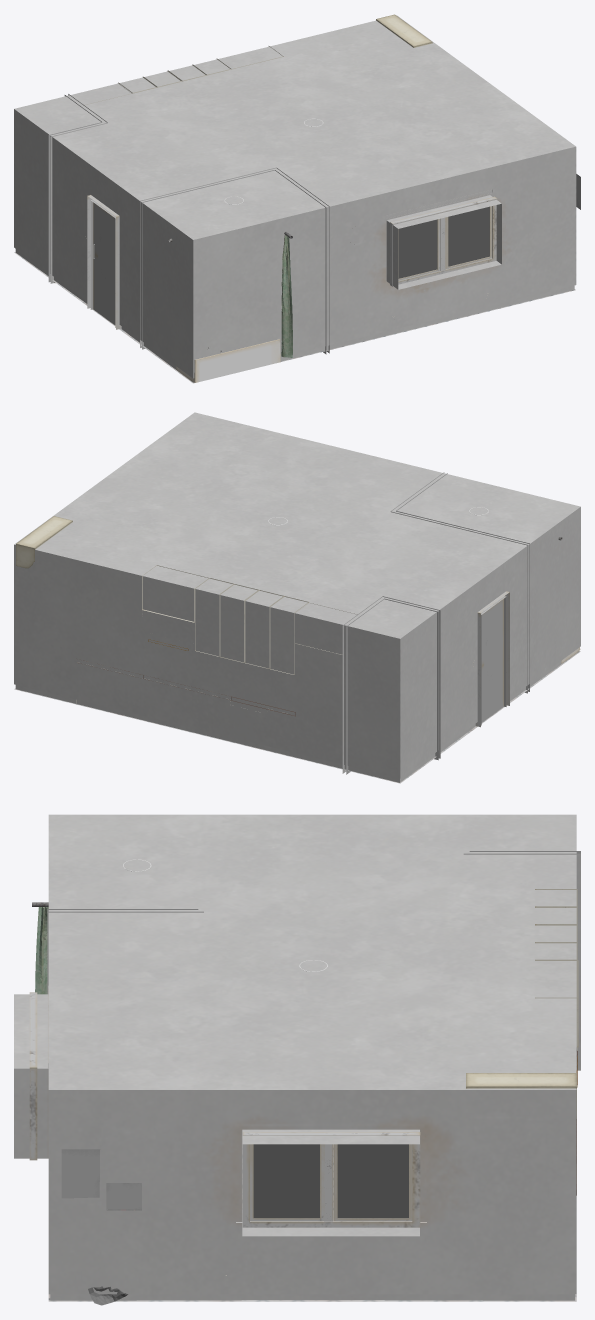
File: an_old_cheap_room_in_chinatown.obj
3 renders of one model, top to bottom at view 1: azimuth 30°, elevation 25°; view 2: azimuth 150°, elevation 25°; view 3: azimuth 270°, elevation 25°, orthographic. The views are drawn at different scales.
Visible parts, largest first — view 1: Base_M_MainParts_0, polySurface16_M_MainParts_0, DOOR_M_MainParts_0, bathtub_M_Bathroom_0, polySurface13_M_MainParts_0, Doorframe_M_MainParts_0, bathroom_wall_M_MainParts_0, curtain_M_Bathroom_0, wallCloset_M_MainParts_0, AC_M_LivingRoom_0; view 2: Base_M_MainParts_0, DOOR_M_MainParts_0, wallCloset_M_MainParts_0, Doorframe_M_MainParts_0, AC_M_LivingRoom_0, cabinets_M_Kitchen_0, bathroom_wall_M_MainParts_0; view 3: Base_M_MainParts_0, polySurface24_M_MainParts_0, polySurface23_M_MainParts_0, pCube33_M_Bedroom_0, AC_M_LivingRoom_0, polySurface13_M_MainParts_0, wallCloset_M_MainParts_0, curtain_M_Bathroom_0, pCube34_M_Bedroom_0, polySurface25_M_MainParts_0, polySurface32_M_MainParts_0, cabinets_M_Kitchen_0 (+2 smaller).
Boxes of the visible parts, x1,y1,x2,y2 form: Base_M_MainParts_0: [14, 15, 576, 383]; polySurface16_M_MainParts_0: [398, 206, 489, 278]; DOOR_M_MainParts_0: [91, 199, 115, 324]; bathtub_M_Bathroom_0: [176, 339, 280, 382]; polySurface13_M_MainParts_0: [390, 196, 497, 286]; Doorframe_M_MainParts_0: [87, 195, 121, 329]; bathroom_wall_M_MainParts_0: [140, 167, 329, 354]; curtain_M_Bathroom_0: [281, 235, 292, 357]; wallCloset_M_MainParts_0: [48, 94, 107, 283]; AC_M_LivingRoom_0: [376, 14, 432, 47]; Base_M_MainParts_0: [14, 412, 580, 783]; DOOR_M_MainParts_0: [481, 596, 505, 722]; wallCloset_M_MainParts_0: [342, 596, 440, 774]; Doorframe_M_MainParts_0: [475, 591, 509, 727]; AC_M_LivingRoom_0: [16, 516, 72, 568]; cabinets_M_Kitchen_0: [76, 565, 357, 704]; bathroom_wall_M_MainParts_0: [390, 472, 529, 693]; Base_M_MainParts_0: [14, 814, 576, 1301]; polySurface24_M_MainParts_0: [253, 1144, 408, 1218]; polySurface23_M_MainParts_0: [242, 1132, 420, 1227]; pCube33_M_Bedroom_0: [61, 1149, 100, 1198]; AC_M_LivingRoom_0: [466, 1073, 576, 1118]; polySurface13_M_MainParts_0: [29, 992, 37, 1160]; wallCloset_M_MainParts_0: [463, 851, 580, 1070]; curtain_M_Bathroom_0: [35, 907, 48, 994]; pCube34_M_Bedroom_0: [106, 1183, 141, 1210]; polySurface25_M_MainParts_0: [333, 1144, 412, 1221]; polySurface32_M_MainParts_0: [250, 1144, 323, 1221]; cabinets_M_Kitchen_0: [535, 889, 578, 1050].
Bounding box in the file's own units: 8.48 × 2.95 × 6.95.
